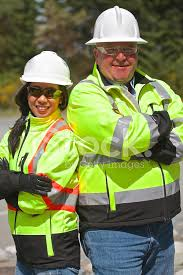Hard Hat: (85, 6, 150, 45), (18, 51, 71, 85)
High Viz: (77, 70, 177, 198), (3, 115, 78, 225)
